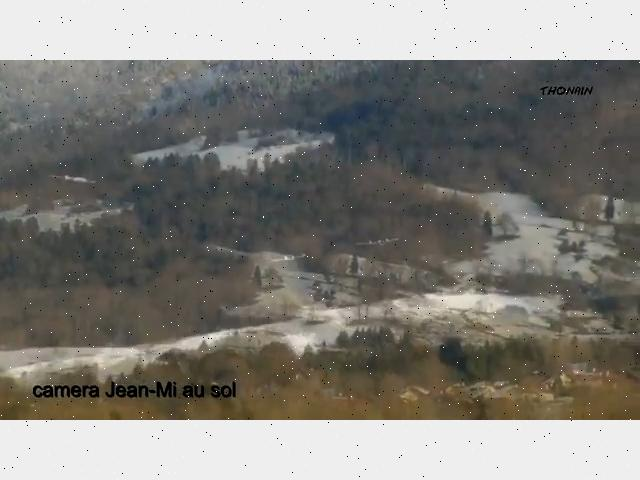Anti-Drone: (49, 167, 103, 191)
